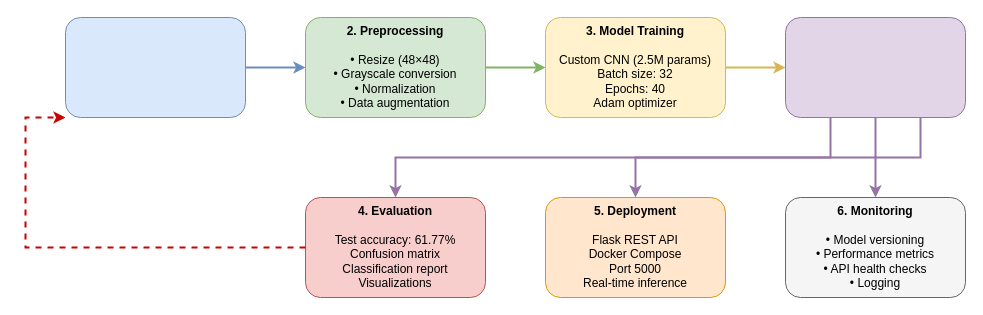
This 983x315 diagram has some shape labels left out. The box of each missing label's shape, as (x1, y1, x2, y2) in pixels:
1. Data Collection FER-2013 Dataset 35,887 images 7 emotion classes: (64, 16, 246, 118)
Docker Container • Reproducible env • Version control • Easy deployment: (784, 16, 966, 118)
